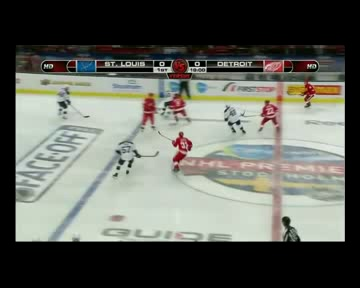normal: (107, 137, 143, 181), (166, 129, 195, 173), (253, 95, 286, 133), (219, 102, 248, 137), (163, 93, 194, 125), (50, 81, 75, 119), (139, 90, 162, 131)
